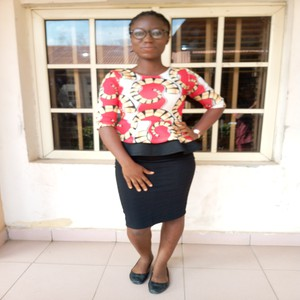Fulokoja_female_student: (98, 12, 177, 284)
